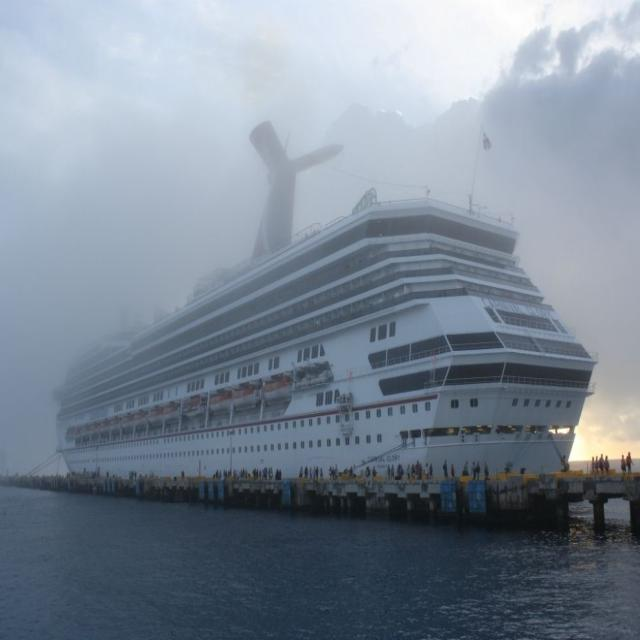passenger ship: (49, 182, 593, 504)
